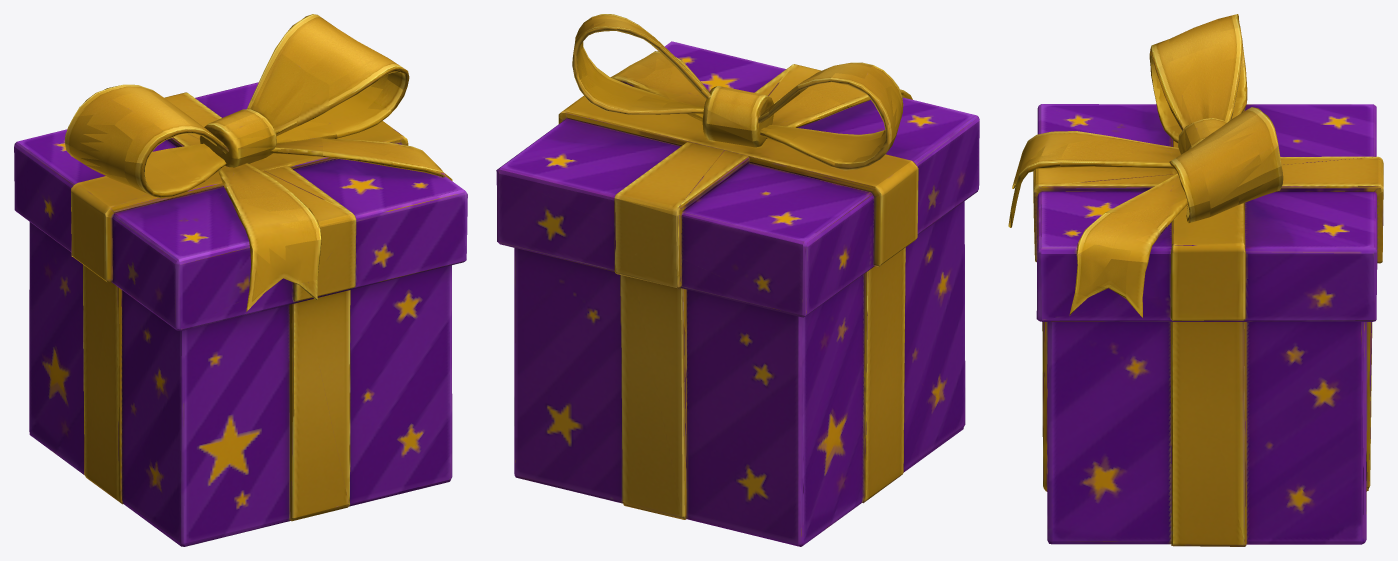
File: starlight_gift_purple.glb
3 views of the same model, side by side, from view 1: azimuth 30°, elevation 25°; view 2: azimuth 150°, elevation 25°; view 3: azimuth 270°, elevation 25° (orthographic). The views are drawn at different scales.
Visible parts, largest first — view 1: mesh_node; view 2: mesh_node; view 3: mesh_node.
Boxes of the visible parts, x1=… form: mesh_node: x1=14, y1=14, x2=467, y2=546; mesh_node: x1=496, y1=14, x2=979, y2=546; mesh_node: x1=1008, y1=14, x2=1383, y2=546.
Size of the model in its own units: 0.8555 by 1 by 0.8262.
1 material, 1 textured.
